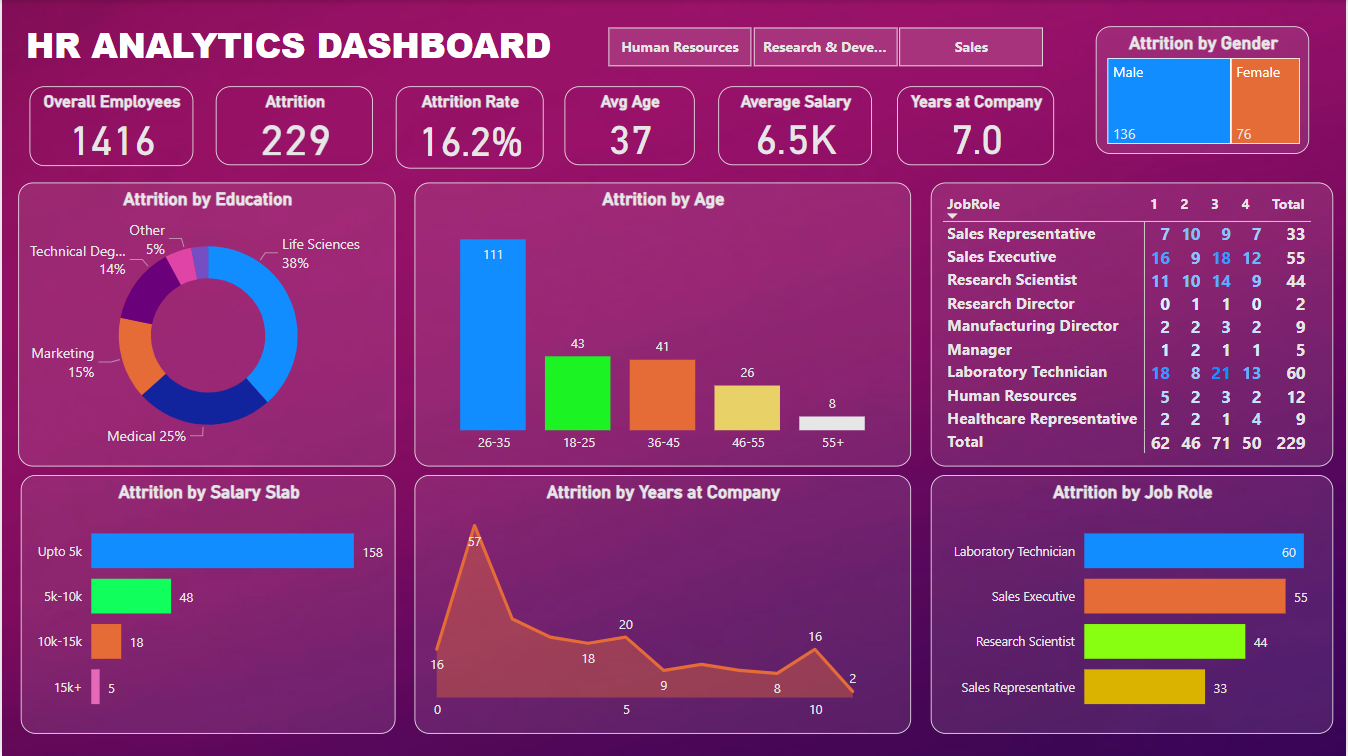

The dashboard page shown, as its layout file describes it:
{"tool":"powerbi","page":{"name":"Page 1","canvas":[1280,720],"ordinal":0},"visuals":[{"type":"card","title":"Avg Age","fields":{"Values":["Avg(HR_Analytics.Age)"]},"box":[536.1,81.6,123.8,75],"z":0},{"type":"card","title":"Attrition","fields":{"Values":["Sum(HR_Analytics.AttritionCount)"]},"box":[203.1,81.6,150,75],"z":1000},{"type":"card","title":"Overall Employees","fields":{"Values":["CountNonNull(HR_Analytics.EmpID)"]},"box":[25.9,81.6,155.9,76.2],"z":2000},{"type":"card","title":"Attrition Rate","fields":{"Values":["HR_Analytics.Attrition Rate"]},"box":[374.4,81.6,140.4,78.5],"z":3000},{"type":"card","title":"Average Salary","fields":{"Values":["Avg(HR_Analytics.MonthlyIncome)"]},"box":[681.7,81.6,146.4,75],"z":4000},{"type":"card","title":"Years at Company","fields":{"Values":["Avg(HR_Analytics.YearsAtCompany)"]},"box":[852.3,81.6,150,75],"z":5000},{"type":"donutChart","title":"Attrition by Education","fields":{"Category":["HR_Analytics.EducationField"],"Y":["Sum(HR_Analytics.AttritionCount)"]},"box":[15.5,173.8,359.4,270.1],"z":6000},{"type":"columnChart","title":"Attrition by Age","fields":{"Category":["HR_Analytics.AgeGroup"],"Y":["Sum(HR_Analytics.AttritionCount)"]},"box":[392.7,173.8,472.5,270.1],"z":7000},{"type":"pivotTable","title":"Job ","fields":{"Columns":["HR_Analytics.JobSatisfaction"],"Rows":["HR_Analytics.JobRole"],"Values":["Sum(HR_Analytics.AttritionCount)"]},"box":[884.2,173.8,383.2,270.1],"z":8000},{"type":"slicer","title":"Attrition by Dept.","fields":{"Values":["HR_Analytics.Department"]},"box":[551,19,464.1,51.2],"z":9000},{"type":"clusteredBarChart","title":"Attrition by Salary Slab","fields":{"Y":["Sum(HR_Analytics.AttritionCount)"],"Category":["HR_Analytics.SalarySlab"]},"box":[17.9,452.2,357,246.3],"z":10000},{"type":"areaChart","title":"Attrition by Years at Company","fields":{"Category":["HR_Analytics.YearsAtCompany"],"Y":["Sum(HR_Analytics.AttritionCount)"]},"box":[392.7,452.2,472.5,246.3],"z":11000},{"type":"treemap","title":"Attrition by Gender","fields":{"Values":["Sum(HR_Analytics.AttritionCount)"],"Group":["HR_Analytics.Gender"]},"box":[1041.3,25,203.5,121.4],"z":12000},{"type":"textbox","box":[17.9,15.5,510.5,110.7],"z":13000},{"type":"clusteredBarChart","title":"Attrition by Job Role","fields":{"Category":["HR_Analytics.JobRole"],"Y":["Sum(HR_Analytics.AttritionCount)"]},"box":[884.2,452.2,383.2,246.3],"z":14000}]}

Visuals, with their boxes in screenshot pixels (x1, y1, x2, y2), scaled from the page's 1280x720 canvas onto the 1348x756 screenshot:
"Avg Age" card: 565,86,695,164
"Attrition" card: 214,86,372,164
"Overall Employees" card: 27,86,191,166
"Attrition Rate" card: 394,86,542,168
"Average Salary" card: 718,86,872,164
"Years at Company" card: 898,86,1056,164
"Attrition by Education" donutChart: 16,182,395,466
"Attrition by Age" columnChart: 414,182,911,466
"Job " pivotTable: 931,182,1335,466
"Attrition by Dept." slicer: 580,20,1069,74
"Attrition by Salary Slab" clusteredBarChart: 19,475,395,733
"Attrition by Years at Company" areaChart: 414,475,911,733
"Attrition by Gender" treemap: 1097,26,1311,154
textbox: 19,16,556,133
"Attrition by Job Role" clusteredBarChart: 931,475,1335,733
